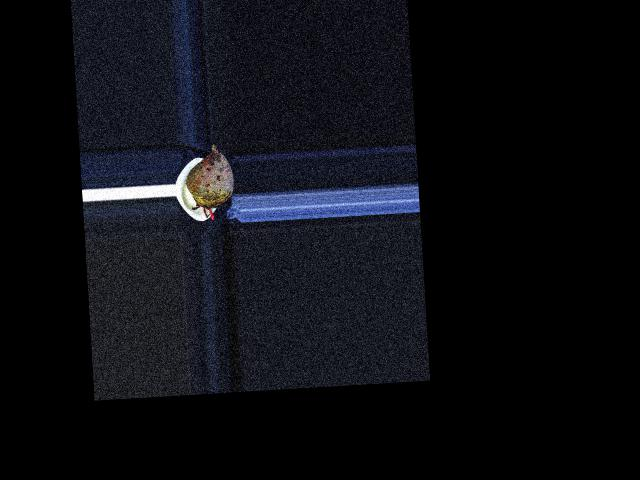beet: (184, 144, 234, 221)
